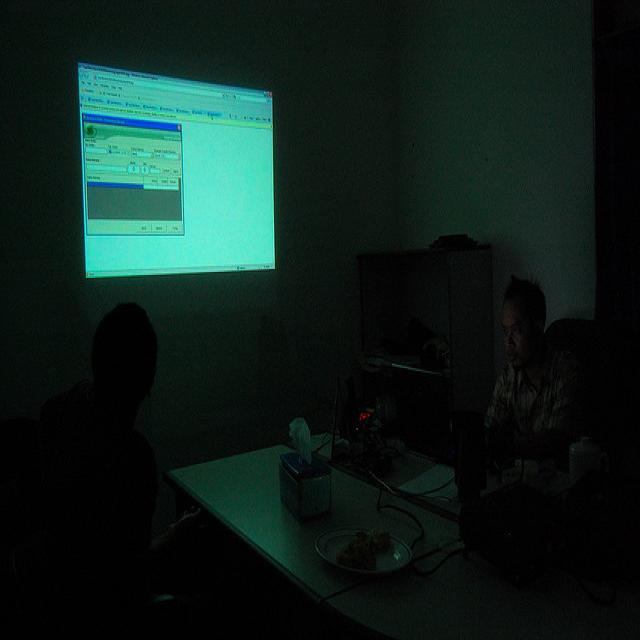People: (56, 293, 187, 520), (467, 260, 576, 482)
Table: (171, 429, 620, 640)
